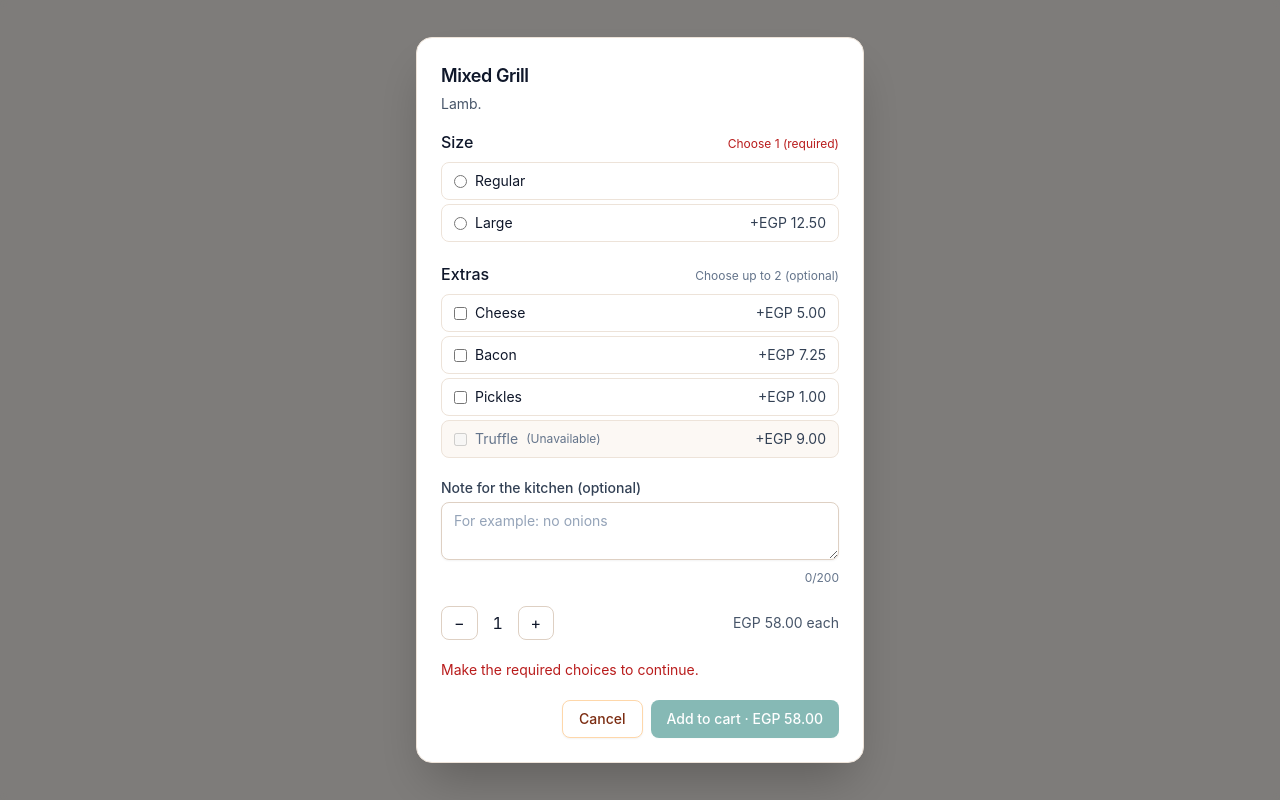
Test: ItemOptionsDialog › stops offering more choices at the group maximum and never offers an unavailable option
What coordinates should you click on to do the following:
click the checkbox labelled "Cheese +EGP 5.00"
I would click on:
 (460, 313)
Its box is [454,306,467,320].
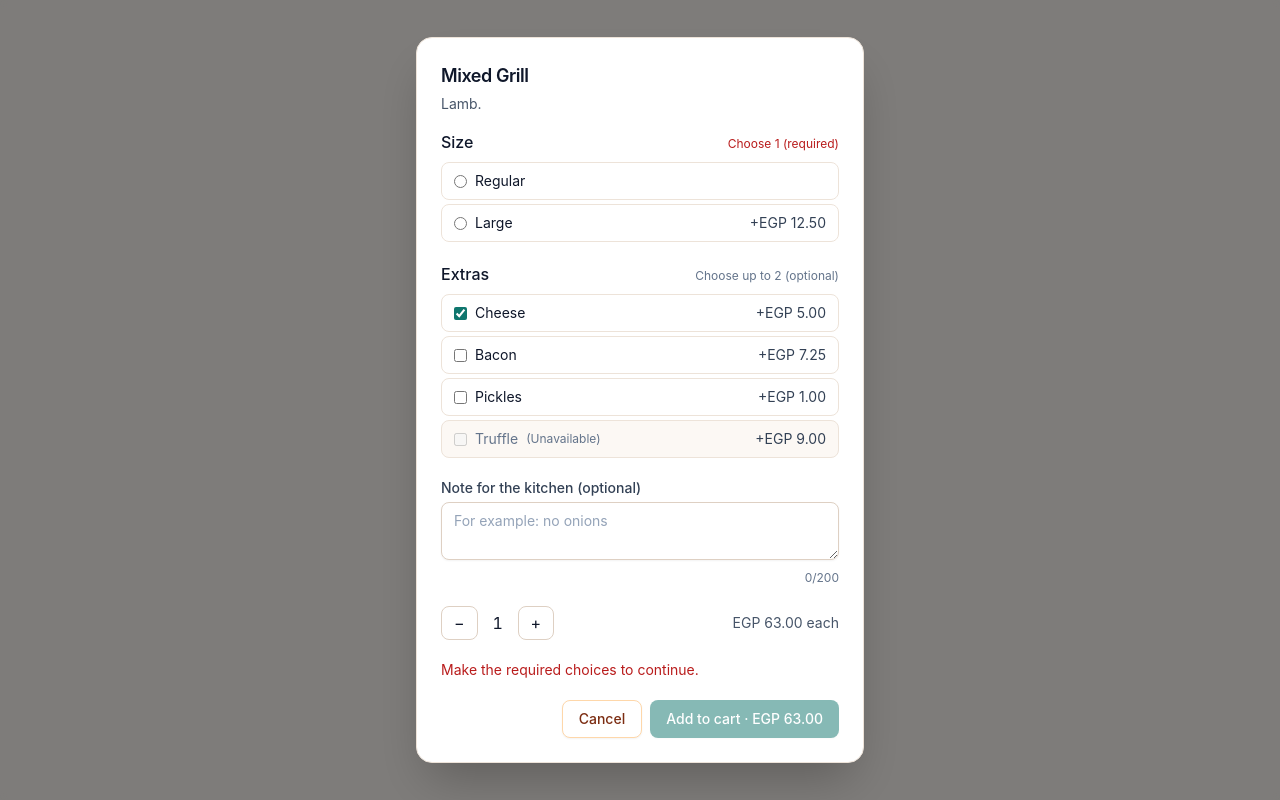
What coordinates should you click on to do the following:
click the checkbox labelled "Bacon +EGP 7.25"
I would click on:
 (460, 355)
Its box is [454,348,467,362].
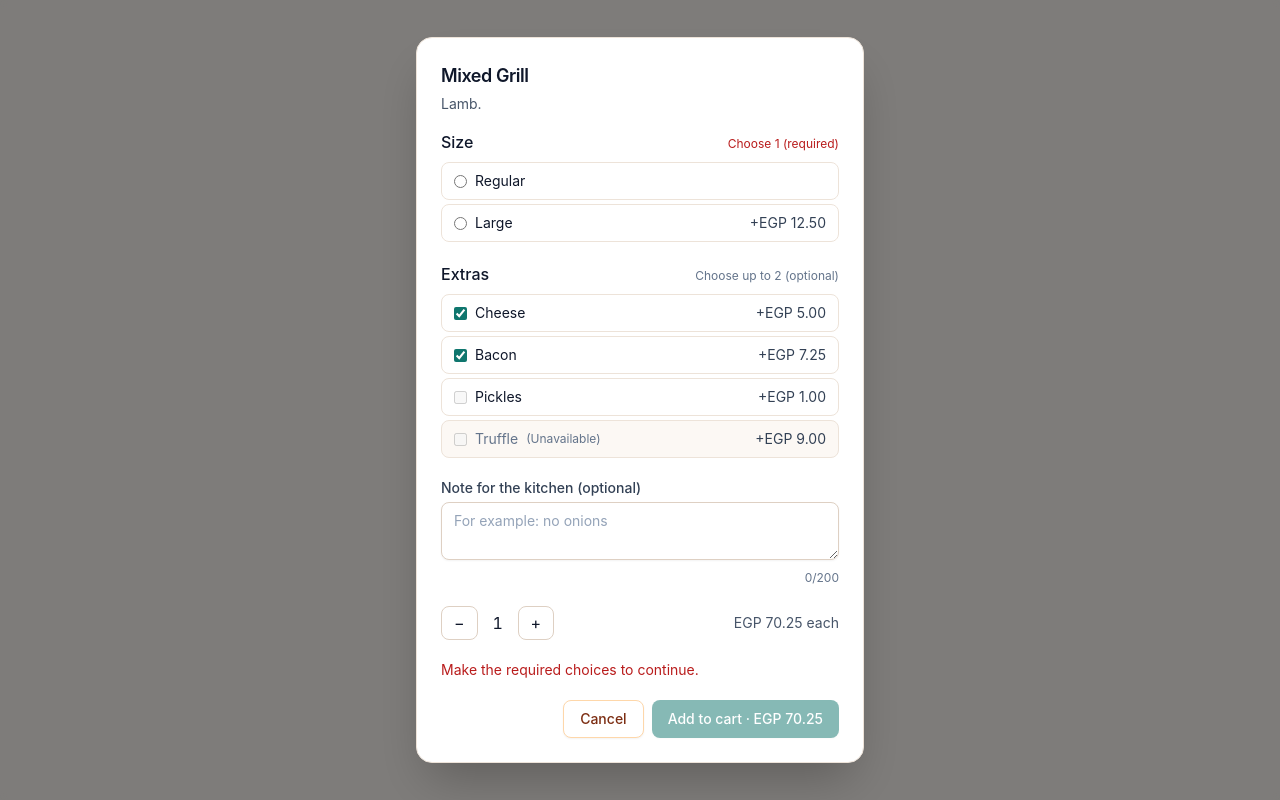
Expected: the checkbox labelled "Truffle (Unavailable) +EGP 9.00" is disabled, [454,432,467,446]
Now the checkbox labelled "Pickles +EGP 1.00" is disabled, box [454,390,467,404]
